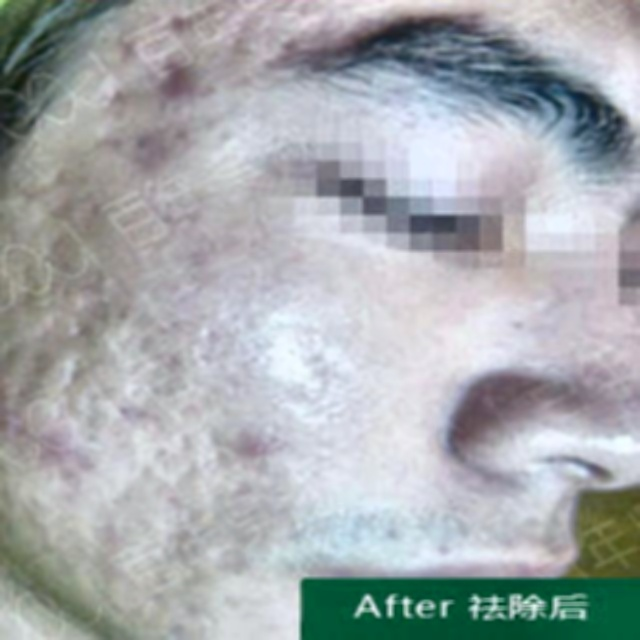comedone: (10, 412, 62, 470), (125, 117, 174, 178), (165, 48, 215, 103)
